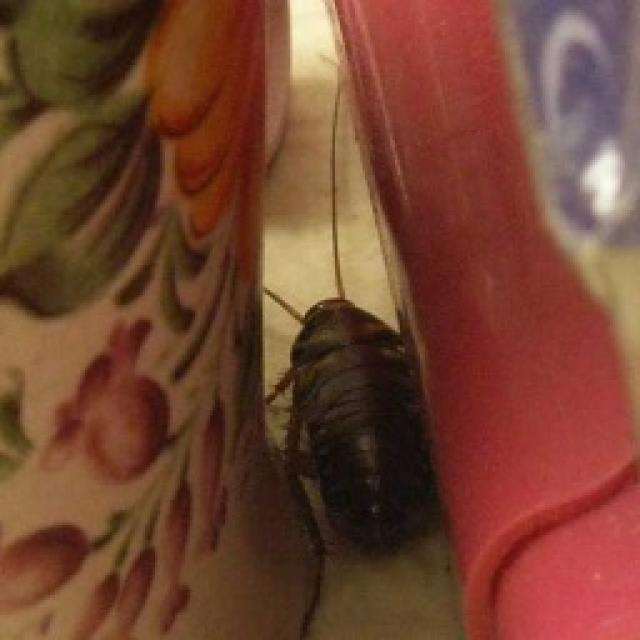cockroach: (267, 256, 484, 635)
